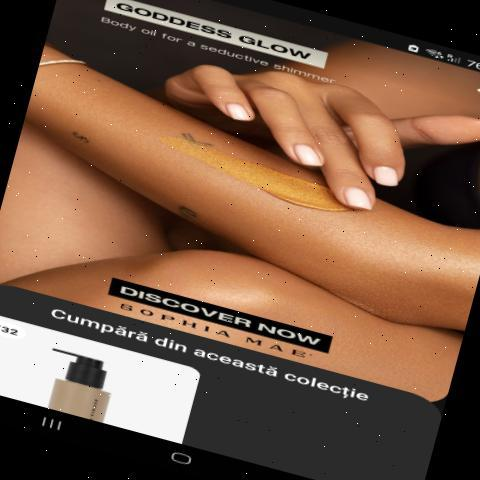Hands: (172, 26, 443, 241)
